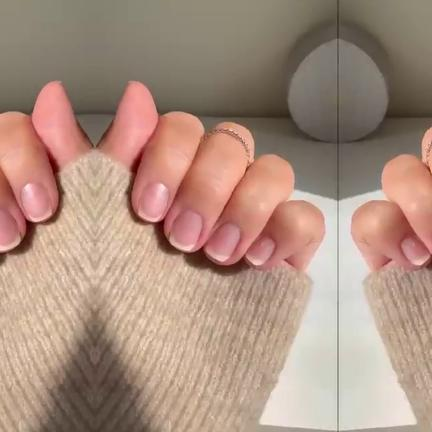Nail: (203, 223, 240, 263), (168, 210, 201, 251), (137, 183, 167, 222), (21, 183, 51, 222), (245, 236, 274, 266), (400, 236, 429, 266), (0, 210, 20, 251)
